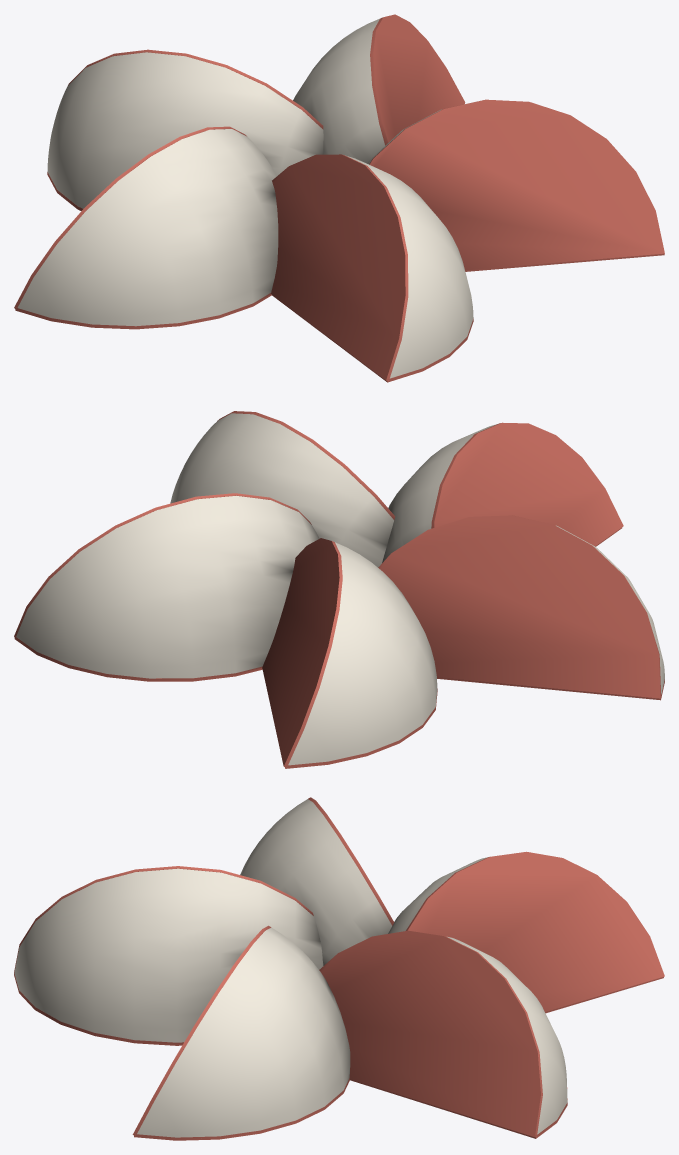
Rendered from prep_wedges.glb.
3 renders of one model, top to bottom at view 1: azimuth 30°, elevation 25°; view 2: azimuth 150°, elevation 25°; view 3: azimuth 270°, elevation 25°, orthographic.
Visible parts, largest first — view 1: PART; view 2: PART; view 3: PART.
Part boxes in pixels (x1,y1,x2,y2): PART: (14,14,664,382); PART: (14,411,664,768); PART: (14,797,664,1140).
Size of the model in its own units: 0.1696 by 0.0415 by 0.1767.
